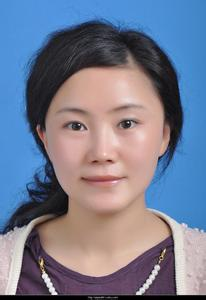unmask: (47, 92, 172, 209)
